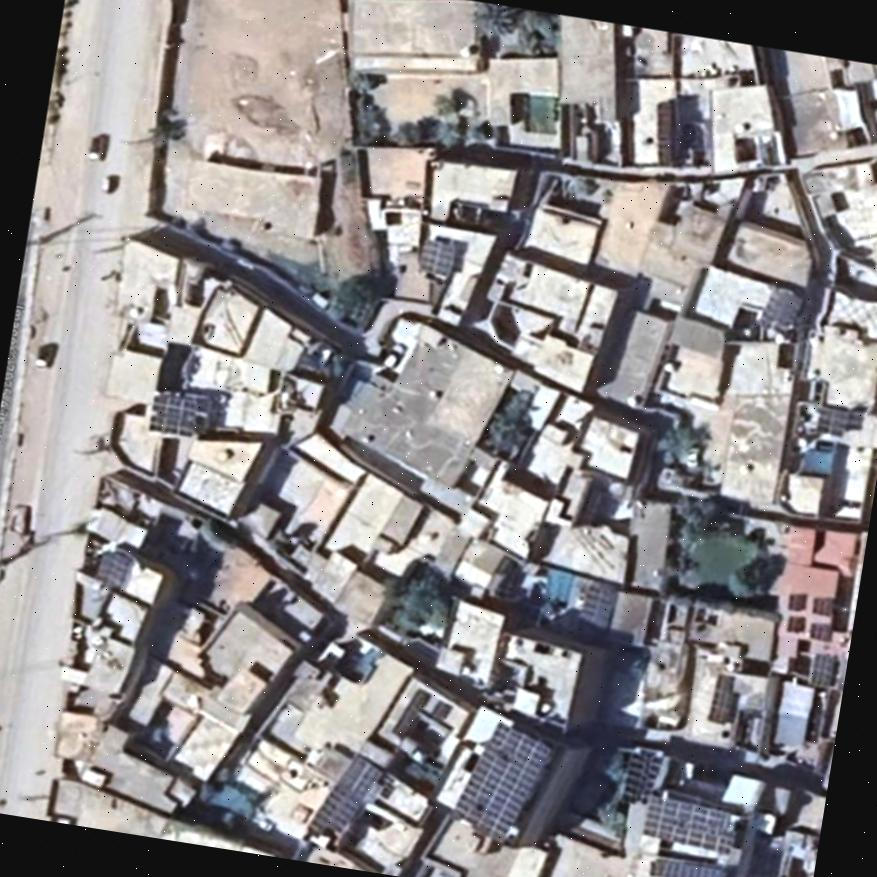Solarpanel: (450, 723, 550, 843), (306, 757, 382, 841), (640, 797, 730, 852), (151, 390, 197, 434), (418, 242, 459, 280), (707, 670, 733, 724), (95, 549, 128, 591), (650, 859, 724, 877), (815, 401, 849, 434), (813, 654, 836, 688)
